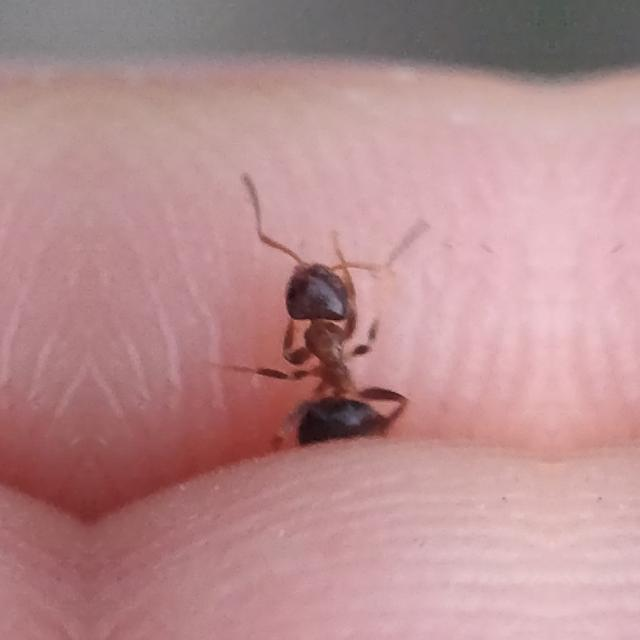Lasius: (220, 176, 450, 448)
